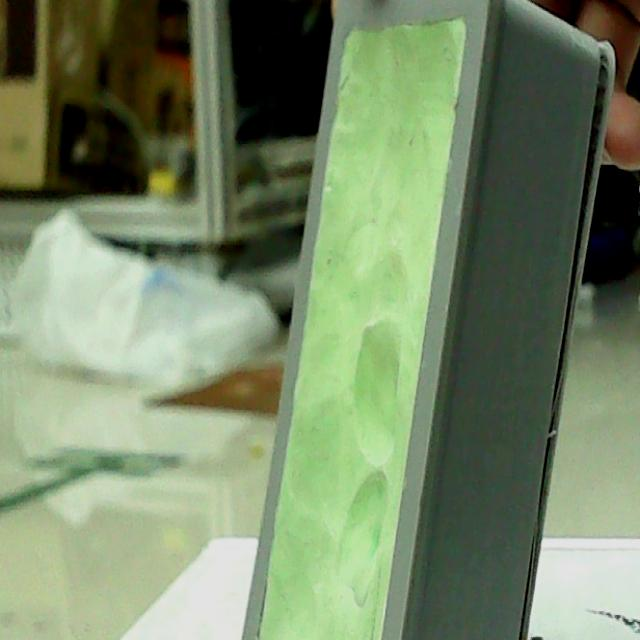block: (233, 0, 619, 640)
